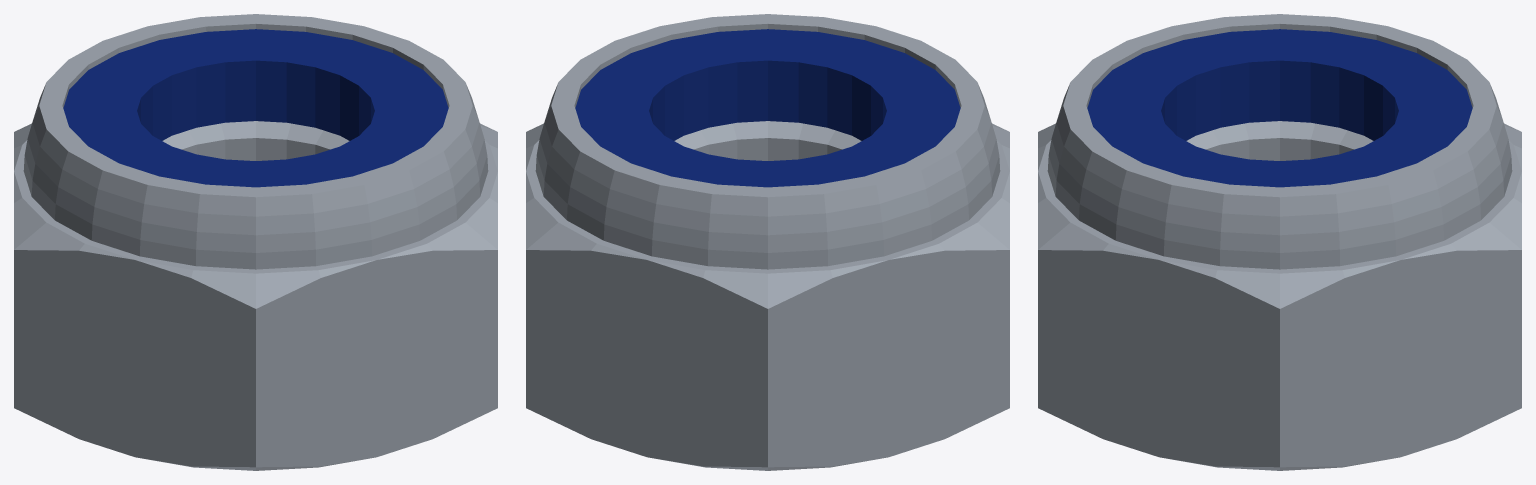
The model's file is model_display.glb.
3 renders of one model, left to right at view 1: azimuth 30°, elevation 25°; view 2: azimuth 150°, elevation 25°; view 3: azimuth 270°, elevation 25°, orthographic.
Visible parts, largest first — view 1: steel, nylon_insert; view 2: steel, nylon_insert; view 3: steel, nylon_insert.
Part boxes in pixels (x1,y1,x2,y2): steel: [14, 14, 497, 470]; nylon_insert: [63, 29, 448, 187]; steel: [526, 14, 1009, 470]; nylon_insert: [575, 29, 960, 187]; steel: [1038, 14, 1521, 470]; nylon_insert: [1087, 29, 1472, 187].
Size of the model in its own units: 0.0115 by 0.006 by 0.01.
